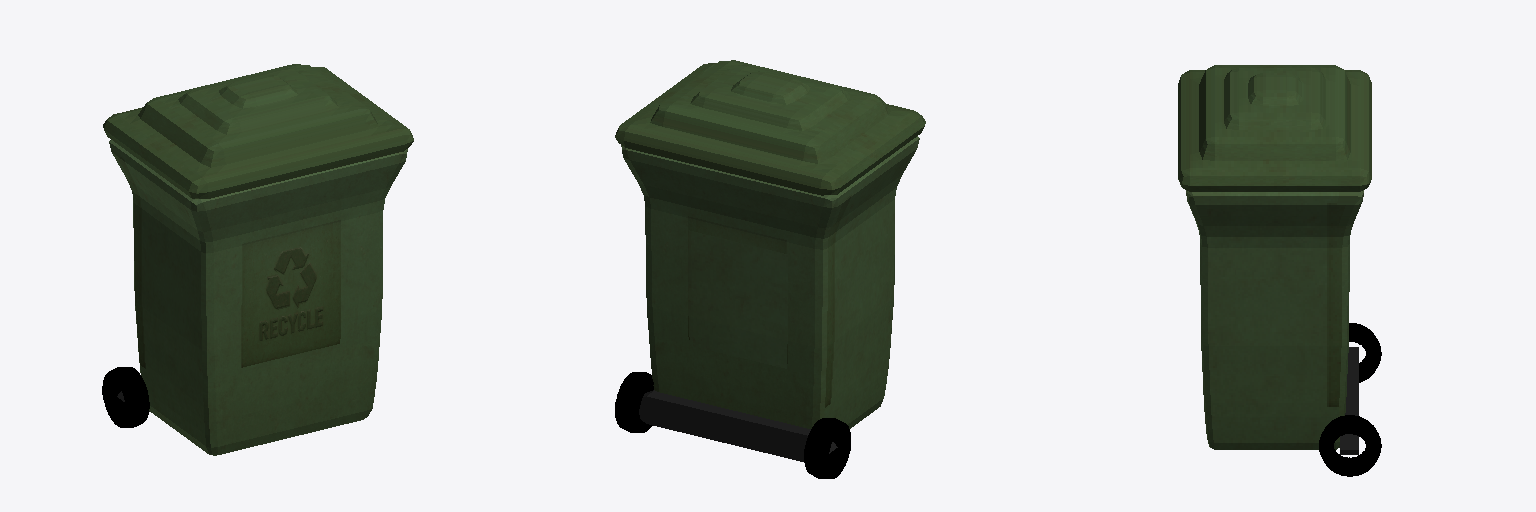
3 views of the same model, side by side, from view 1: azimuth 30°, elevation 25°; view 2: azimuth 150°, elevation 25°; view 3: azimuth 270°, elevation 25° (orthographic).
Parts seen in each view (by area): view 1: polySurface3; view 2: polySurface3; view 3: polySurface3.
Boxes of the visible parts, x1,y1,x2,y2 form: polySurface3: [102, 64, 413, 455]; polySurface3: [615, 60, 925, 478]; polySurface3: [1178, 65, 1381, 476].
Size of the model in its own units: 2.07 by 3.04 by 1.62.
Materials: 3 (2 with a texture image).